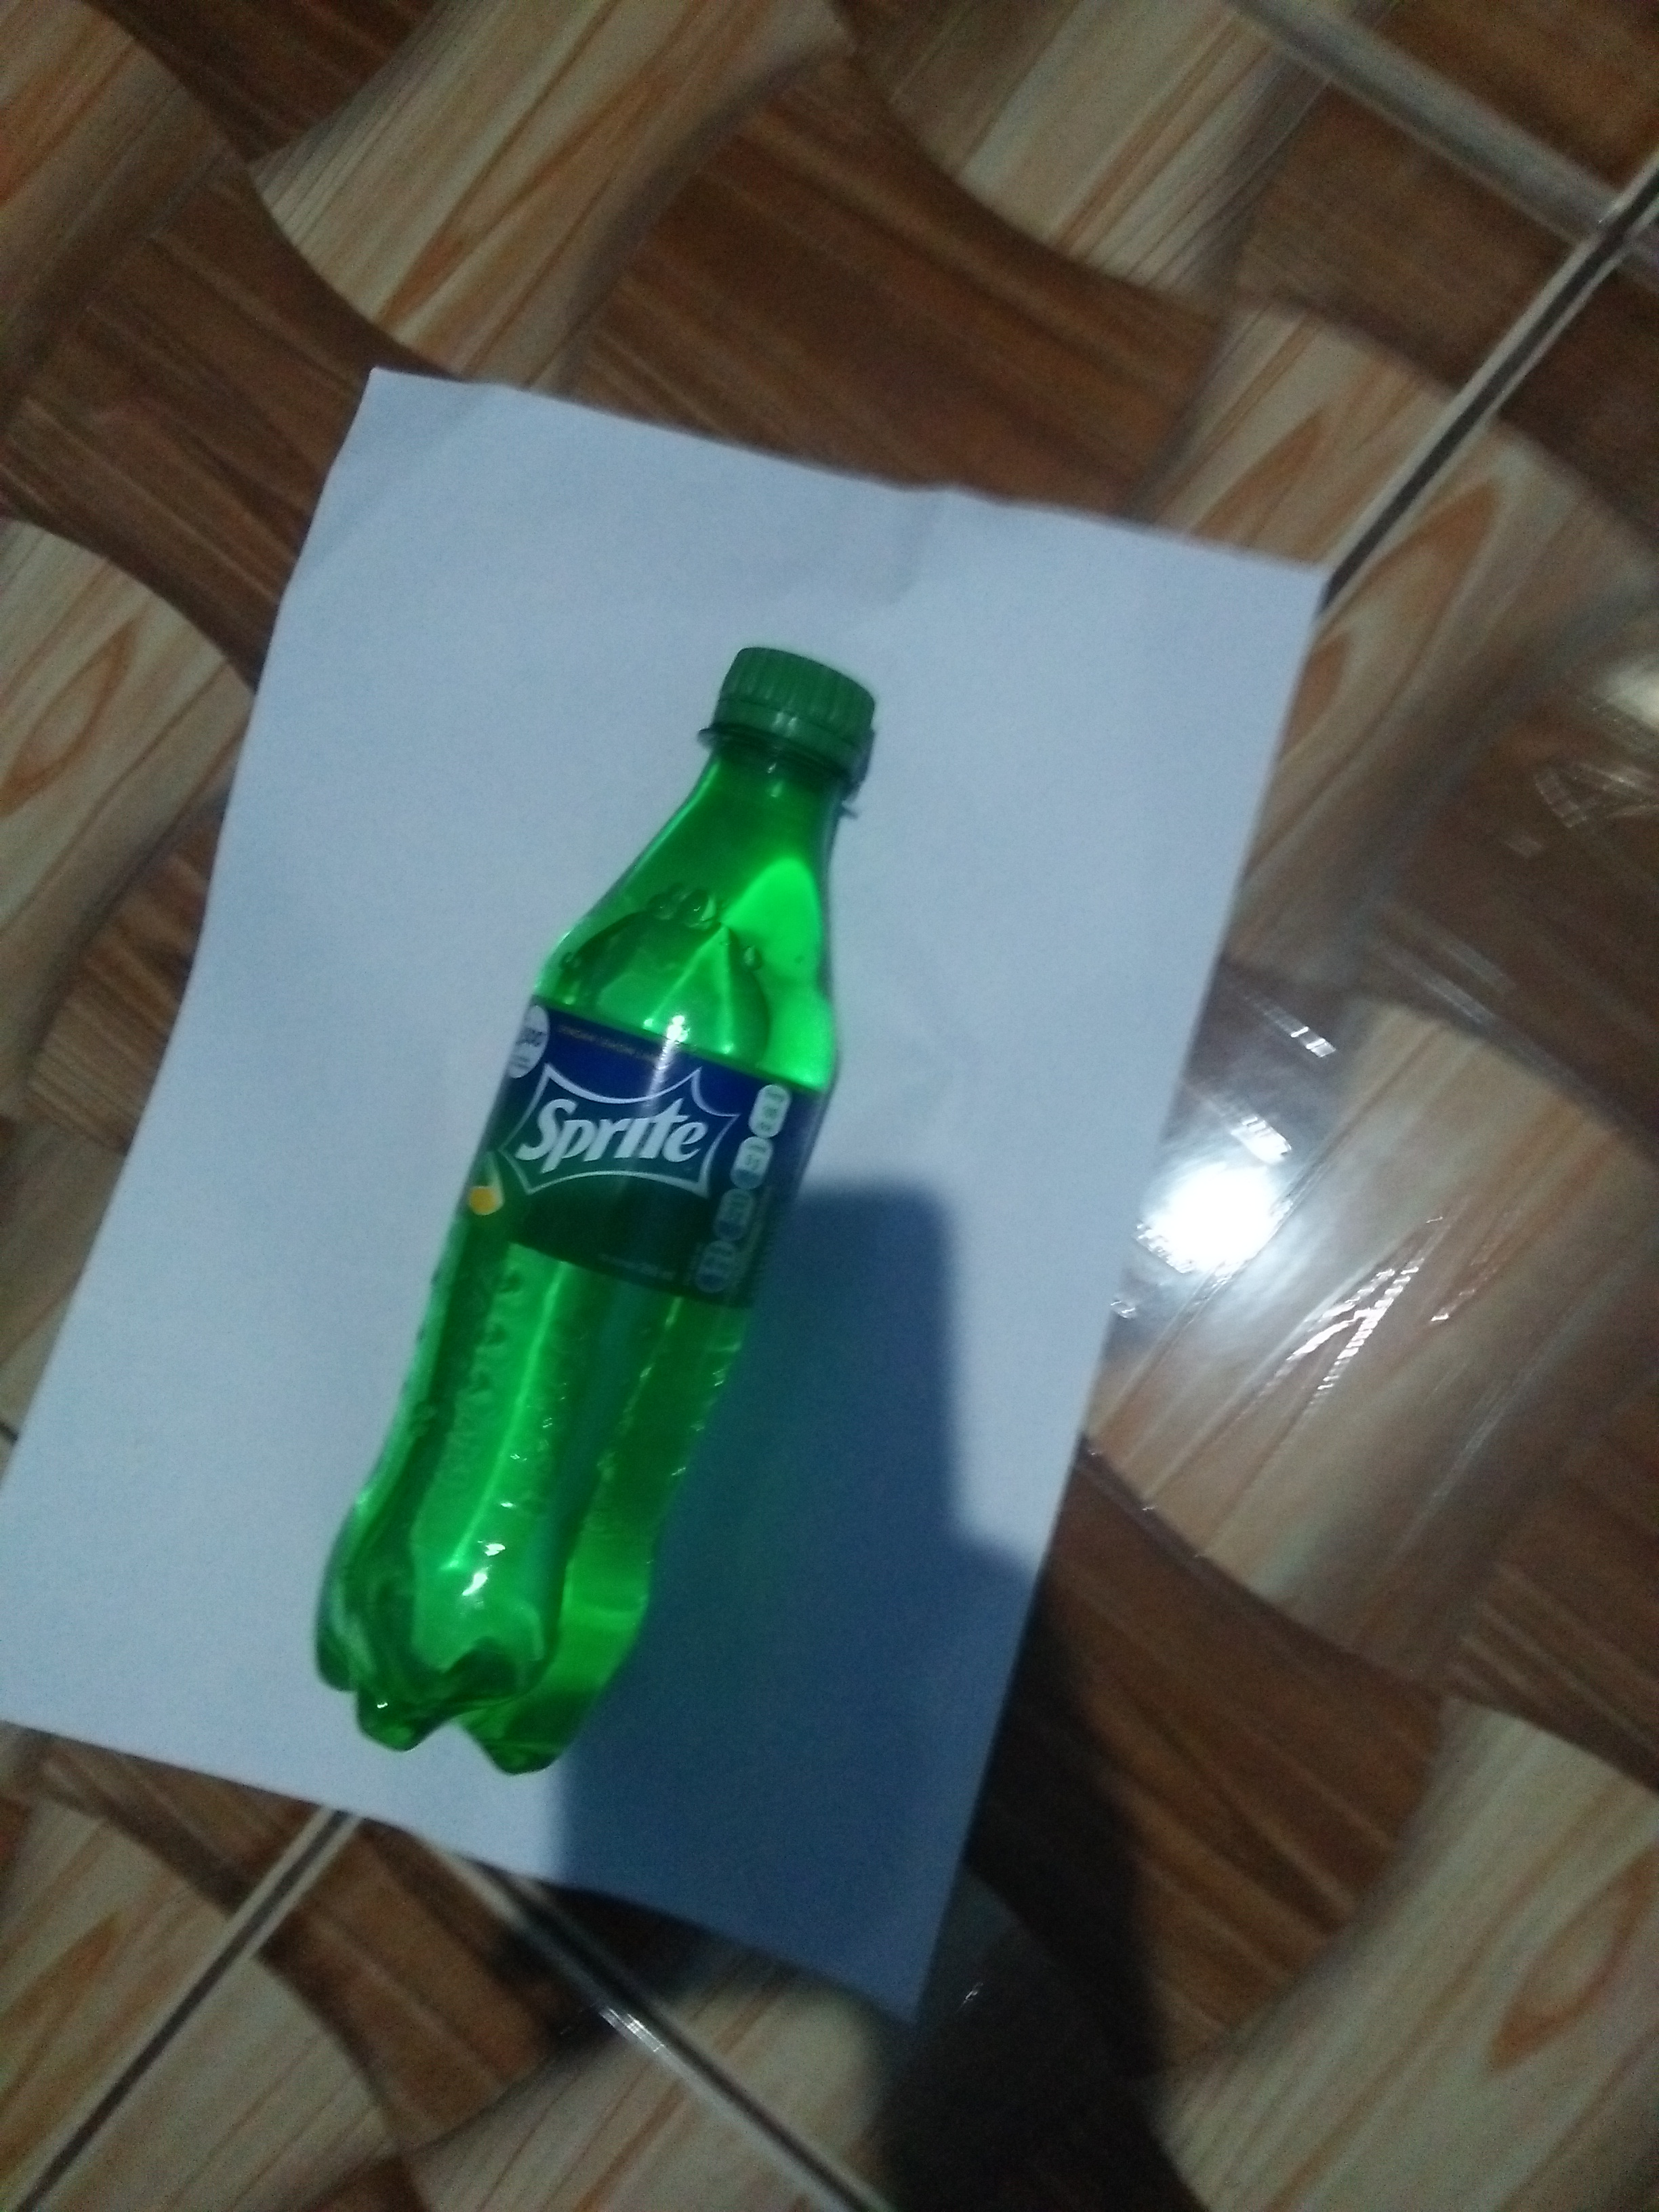Sprite: (289, 637, 904, 1794)
